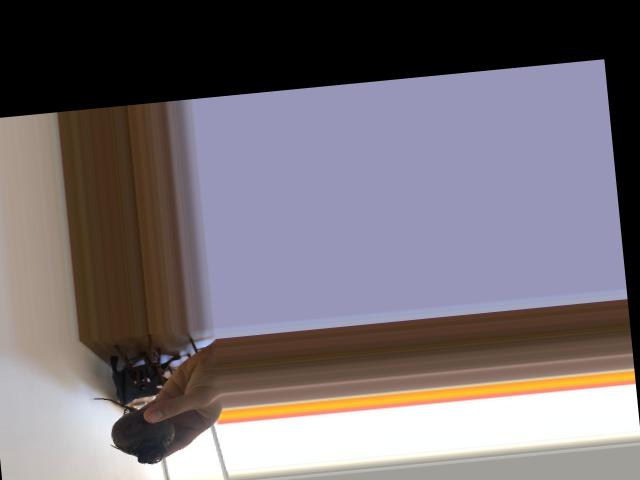beet: (90, 390, 177, 469)
